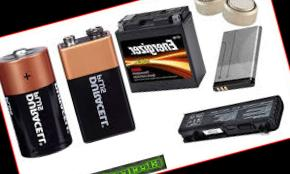battery: (50, 17, 142, 154), (0, 34, 78, 169), (194, 20, 279, 100)
